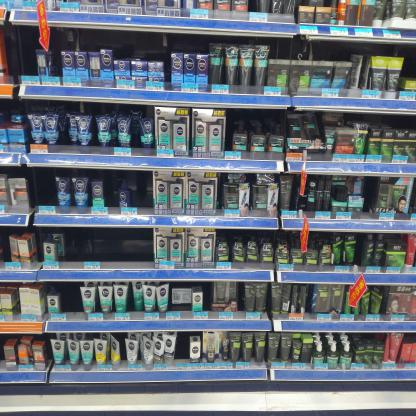Void: (61, 231, 150, 266), (114, 32, 163, 62), (10, 30, 34, 86), (59, 26, 109, 48), (29, 170, 52, 209), (133, 171, 151, 210), (170, 34, 208, 52), (61, 285, 80, 315), (105, 174, 119, 214), (368, 177, 376, 212), (178, 335, 188, 360), (205, 281, 212, 313), (238, 283, 242, 312)
